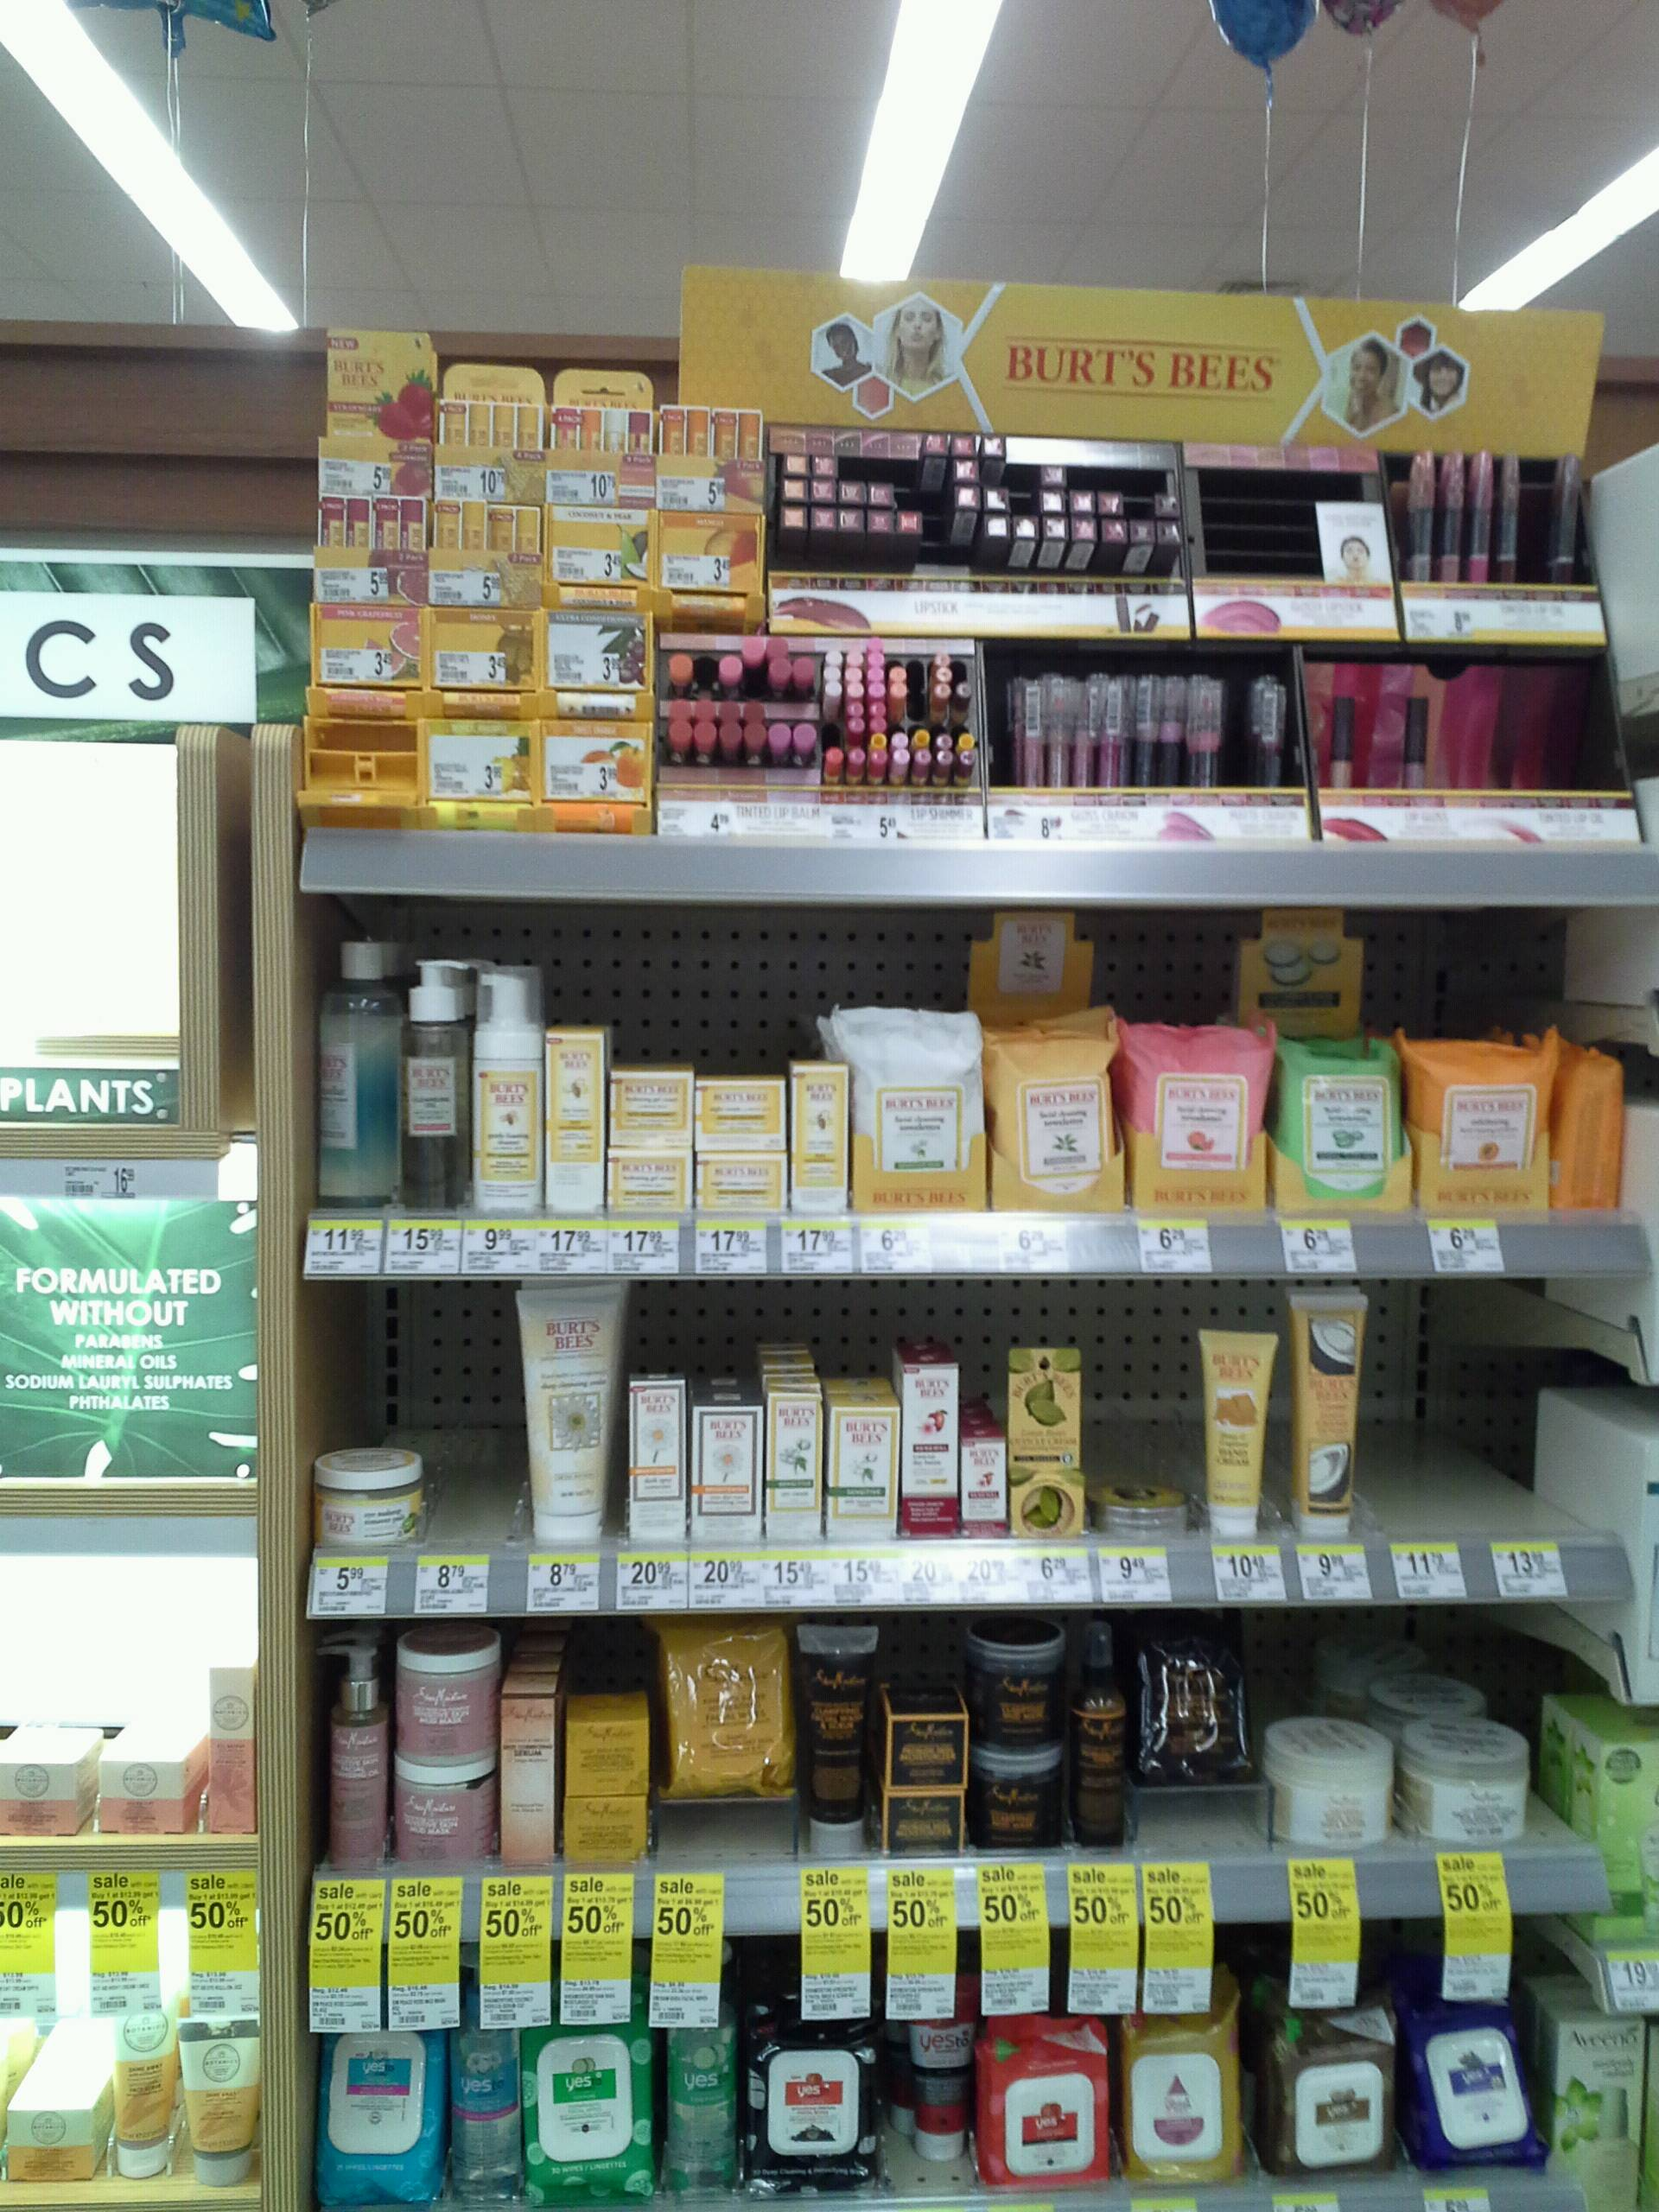product: (772, 421, 1183, 580), (1122, 1019, 1276, 1219), (1405, 1959, 1544, 2167), (1408, 1024, 1554, 1217), (854, 1005, 990, 1212), (1007, 671, 1229, 796), (312, 2008, 448, 2210), (1122, 1963, 1244, 2188), (512, 1280, 612, 1552), (525, 2005, 657, 2198), (990, 1019, 1119, 1209), (817, 644, 978, 796), (657, 1620, 795, 1796), (979, 2008, 1114, 2188), (1270, 1994, 1394, 2179), (1138, 1601, 1260, 1787), (657, 1939, 744, 2196), (312, 941, 392, 1212), (751, 2031, 890, 2186), (1283, 1035, 1401, 1214), (666, 634, 812, 772), (1290, 1291, 1370, 1538), (796, 1625, 880, 1860), (394, 954, 469, 1214), (310, 1641, 389, 1878), (451, 1944, 521, 2210), (1263, 1712, 1399, 1848), (1399, 1709, 1530, 1846), (471, 963, 538, 1217), (1199, 1329, 1281, 1534), (1068, 1615, 1134, 1860), (392, 1620, 502, 1764), (1009, 1346, 1089, 1540), (434, 364, 545, 500), (897, 1972, 972, 2160), (1554, 2019, 1643, 2172), (551, 374, 657, 502), (307, 603, 423, 718), (178, 2019, 256, 2189), (423, 721, 538, 834), (108, 1977, 169, 2182), (1598, 1740, 1657, 1949), (545, 610, 657, 719), (425, 611, 544, 714), (322, 326, 430, 437), (544, 721, 648, 836), (974, 1613, 1065, 1745), (392, 1766, 495, 1881), (544, 1031, 606, 1216), (315, 498, 427, 599), (542, 507, 655, 606), (427, 505, 537, 604), (688, 1402, 763, 1547), (307, 1451, 418, 1547), (1556, 1052, 1622, 1212), (660, 512, 765, 613), (901, 1364, 960, 1540), (500, 1691, 558, 1869), (971, 1747, 1063, 1851), (627, 1381, 687, 1541), (660, 418, 763, 509), (829, 1407, 896, 1541), (767, 1390, 824, 1541), (566, 1689, 647, 1797), (795, 1062, 850, 1216), (96, 1757, 186, 1839), (209, 1665, 251, 1838), (1540, 446, 1586, 589), (695, 1082, 788, 1151), (610, 1068, 692, 1146), (7, 2111, 92, 2186), (563, 1797, 647, 1869), (887, 1716, 967, 1789), (1398, 448, 1439, 587), (697, 1153, 788, 1216), (321, 441, 425, 495), (1093, 1477, 1194, 1531), (610, 1148, 692, 1214), (0, 1766, 75, 1838), (885, 1792, 962, 1860), (962, 1435, 1007, 1540), (1256, 679, 1295, 796), (1466, 442, 1495, 589), (1499, 451, 1525, 589), (1330, 691, 1363, 799), (1439, 446, 1464, 589), (1403, 691, 1432, 794)
